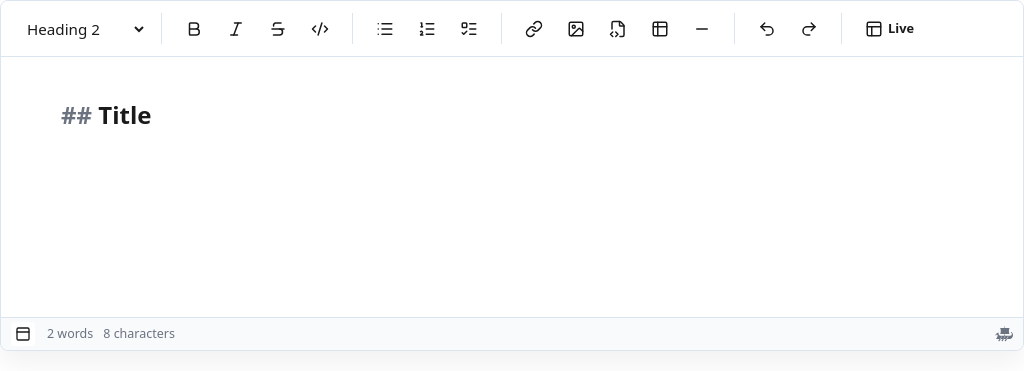
Scenario: GalleyEditor text style selector › choosing Normal removes the heading at the cursor
The width and height of the screenshot is (1024, 371).
Select "Normal" in the dropdown with class "ge-toolbar-select" at [81, 28], box [15,12,147,46]
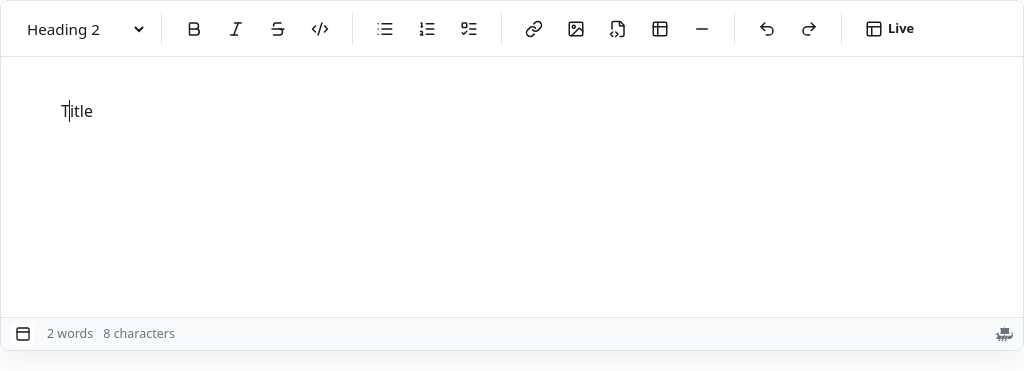
Expected: the text box labelled "Title" is shown, [61,100,93,122]
